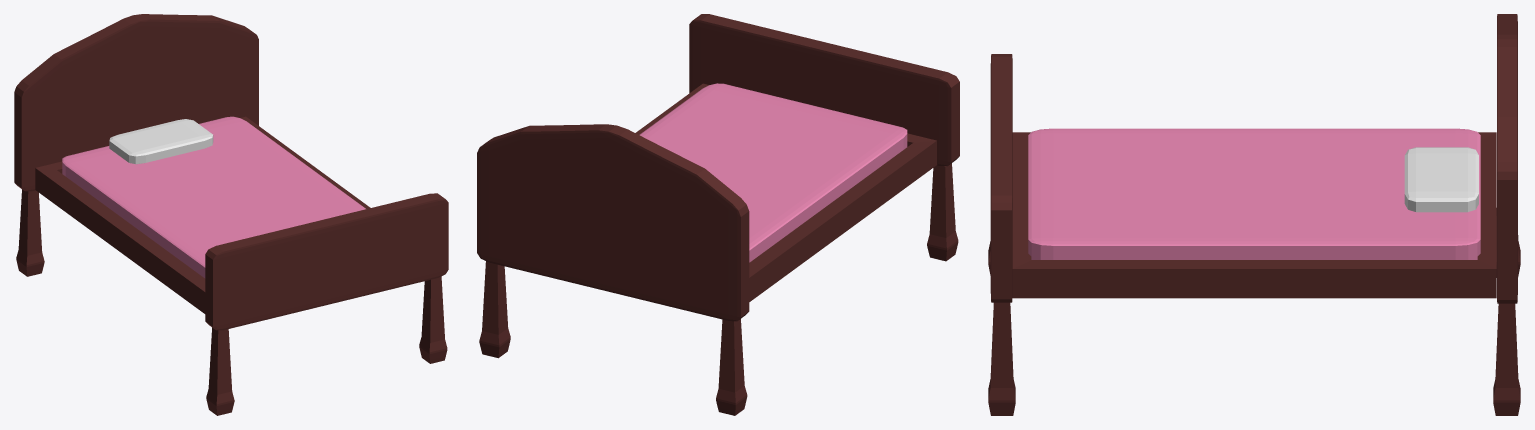
Rendered from CamaQuarto.fbx.
3 views of the same model, side by side, from view 1: azimuth 30°, elevation 25°; view 2: azimuth 150°, elevation 25°; view 3: azimuth 270°, elevation 25° (orthographic). The views are drawn at different scales.
Visible parts, largest first — view 1: suporte3, Colchao, suporte1, suporte2, Pernas, Travesseiro; view 2: suporte3, Colchao, suporte1, suporte2, Pernas; view 3: Colchao, suporte2, suporte3, suporte1, Pernas, Travesseiro.
Part boxes in pixels (box(x1,y1,x2,y2)): suporte3: box(14, 14, 258, 191); Colchao: box(62, 116, 365, 278); suporte1: box(205, 193, 448, 330); suporte2: box(35, 116, 370, 313); Pernas: box(16, 189, 447, 415); Travesseiro: box(109, 119, 213, 164); suporte3: box(477, 124, 749, 321); Colchao: box(639, 83, 907, 262); suporte1: box(689, 14, 959, 166); suporte2: box(635, 83, 937, 301); Pernas: box(479, 163, 958, 415); Colchao: box(1028, 128, 1480, 259); suporte2: box(1012, 132, 1496, 298); suporte3: box(1497, 14, 1517, 303); suporte1: box(990, 54, 1012, 302); Pernas: box(988, 208, 1520, 415); Travesseiro: box(1404, 147, 1478, 212).
Size of the model in its own units: 225 by 207 by 329.
